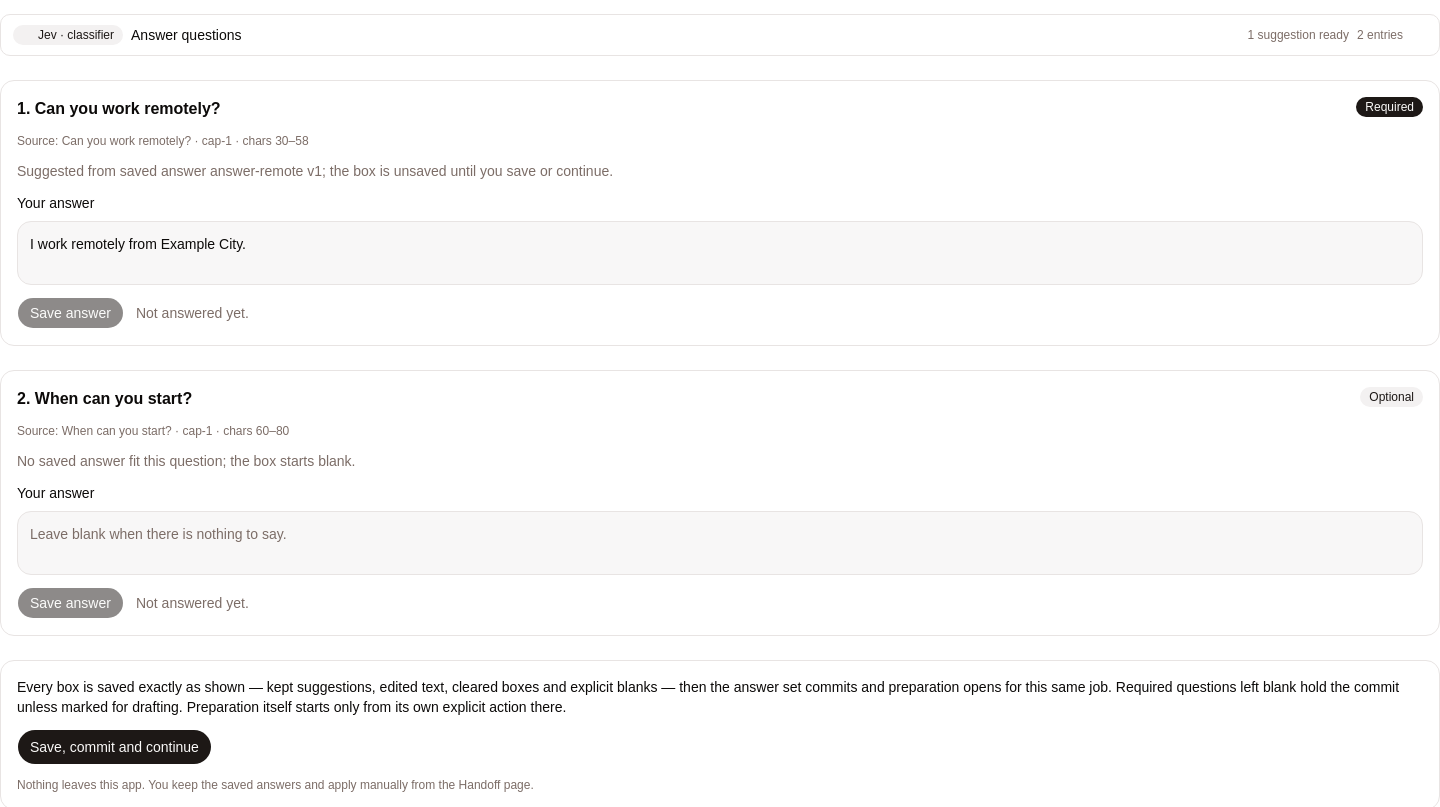
Test: answers page model-call boundary › mounts, saves, and conflicts with zero POSTs and zero model endpoints
(page scrolled)
Type "Boundary probe." into the text box labelled "Your answer" below "60" at (720, 543), box [17,511,1423,575]
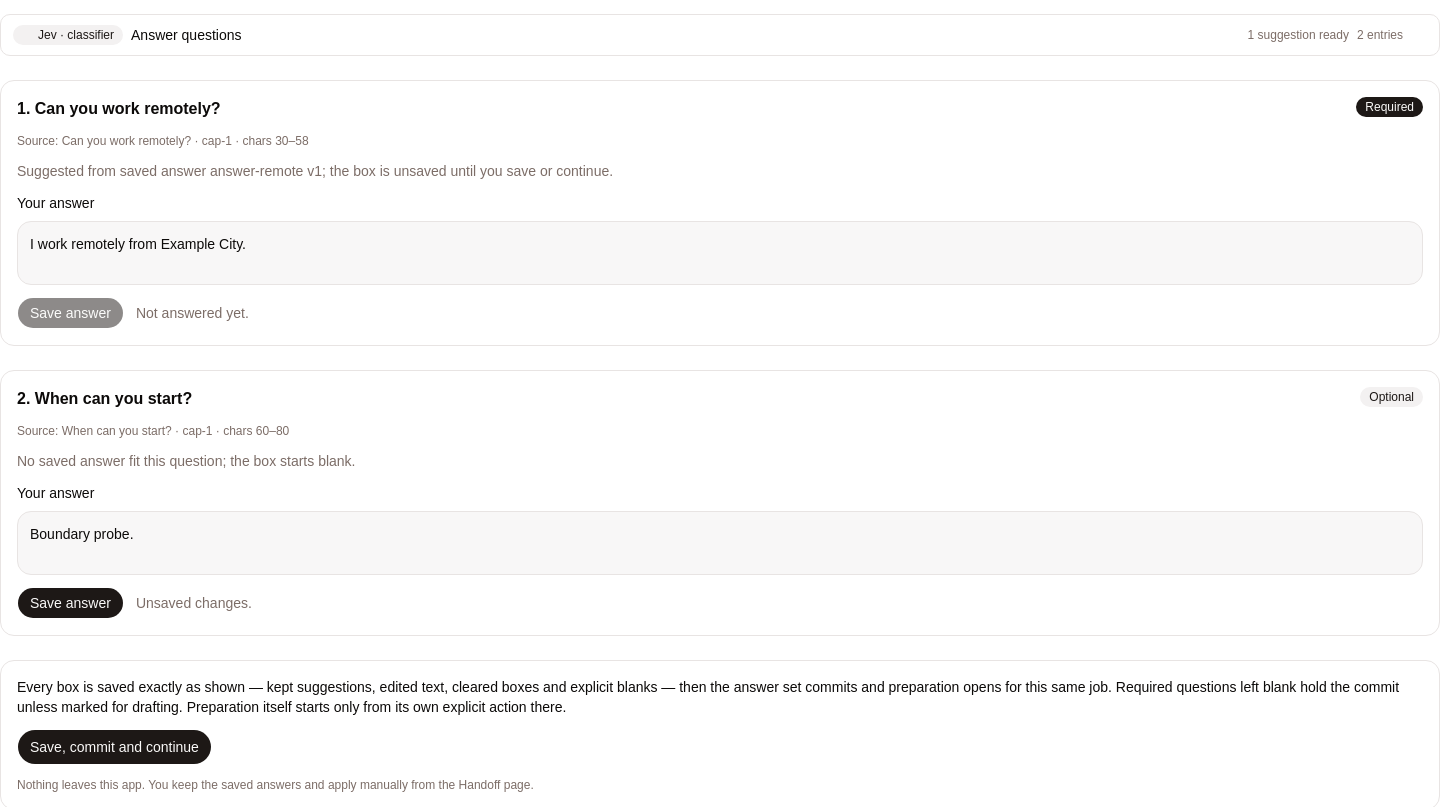
Click the button "Save answer" next to "Unsaved changes." at (70, 603), box [17,587,124,619]
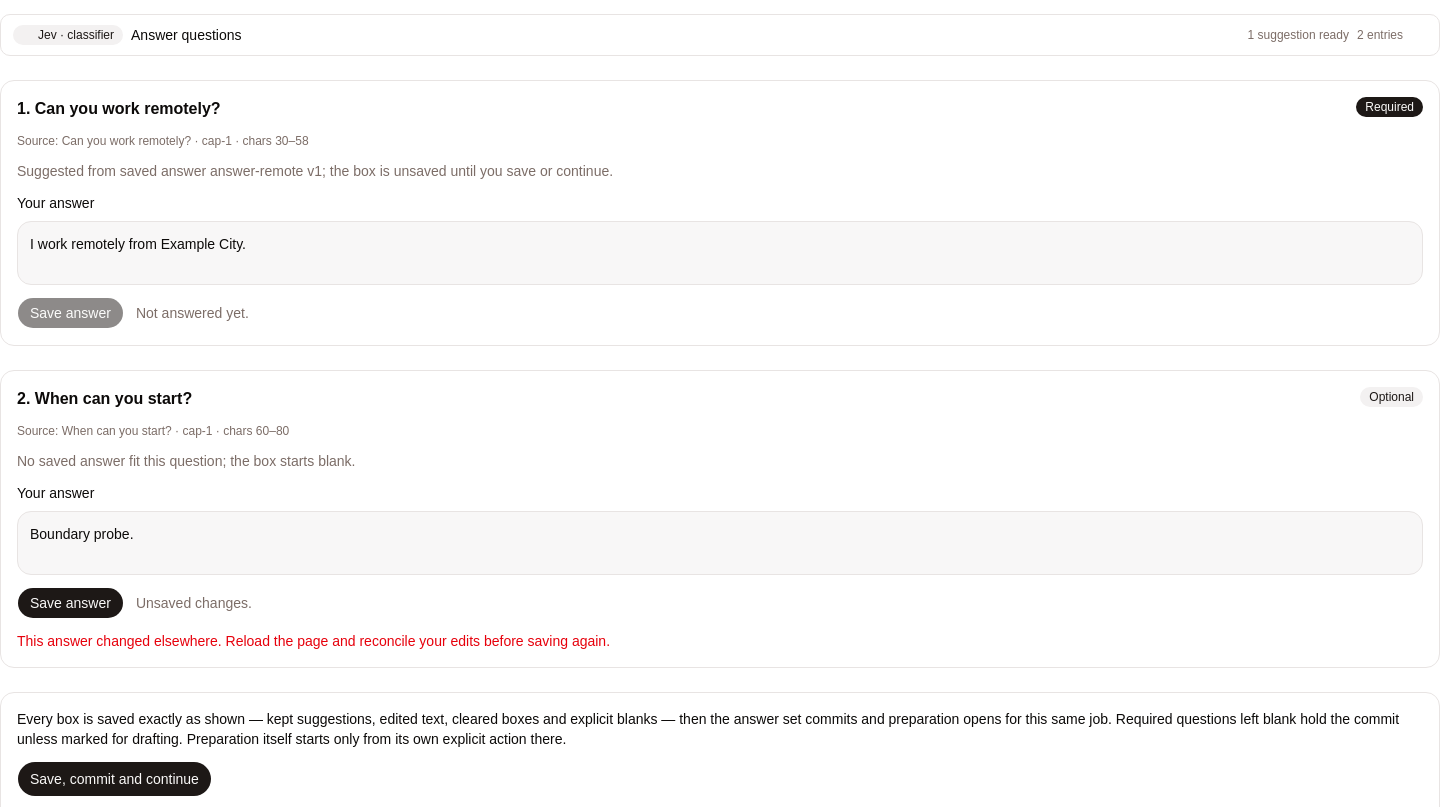
Check: the text "This answer changed elsewhere." is shown, box [17,633,610,649]
Click the button "Save answer" next to "Unsaved changes." at (70, 603), box [17,587,124,619]
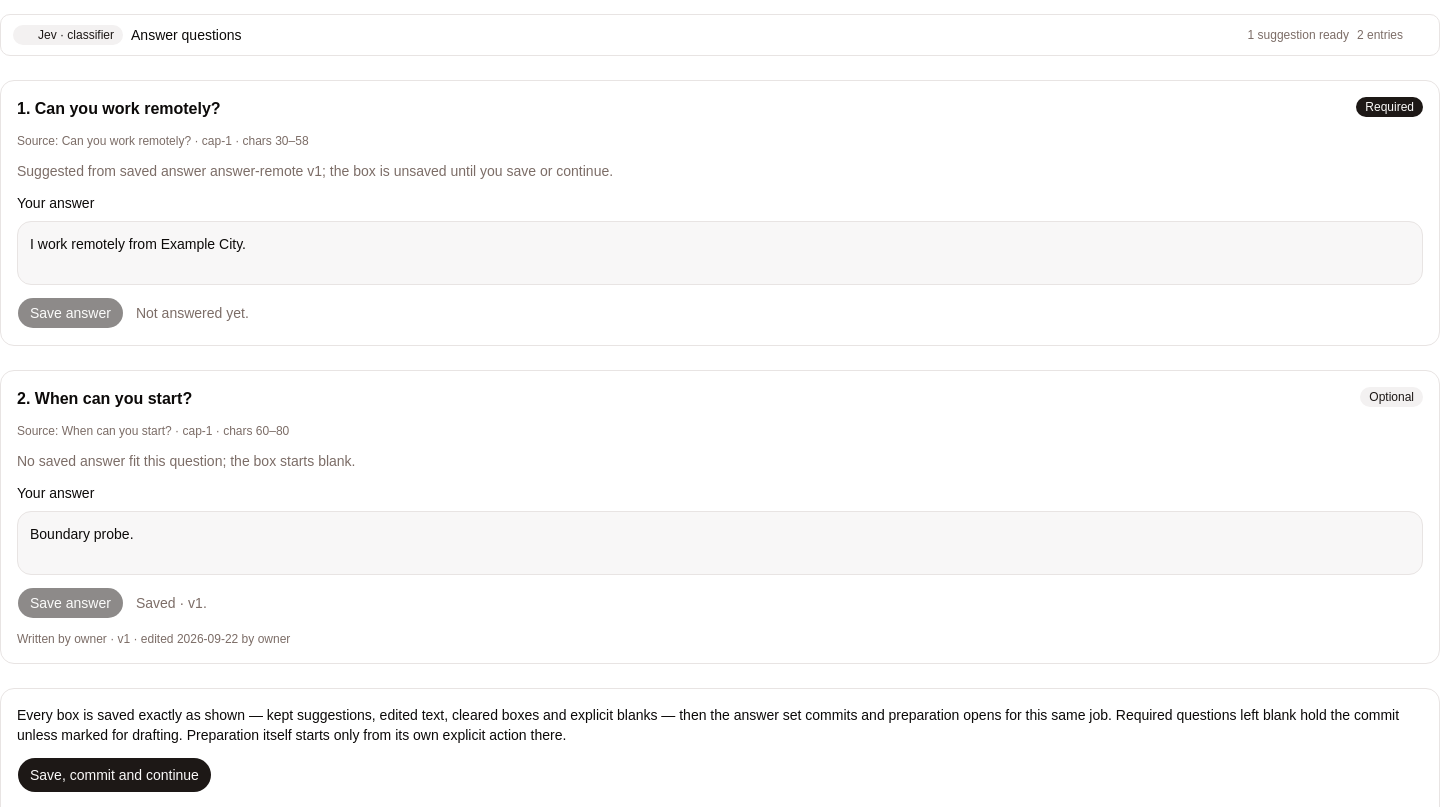
Check: the text "Saved · v1." is shown, box [136,593,207,613]
